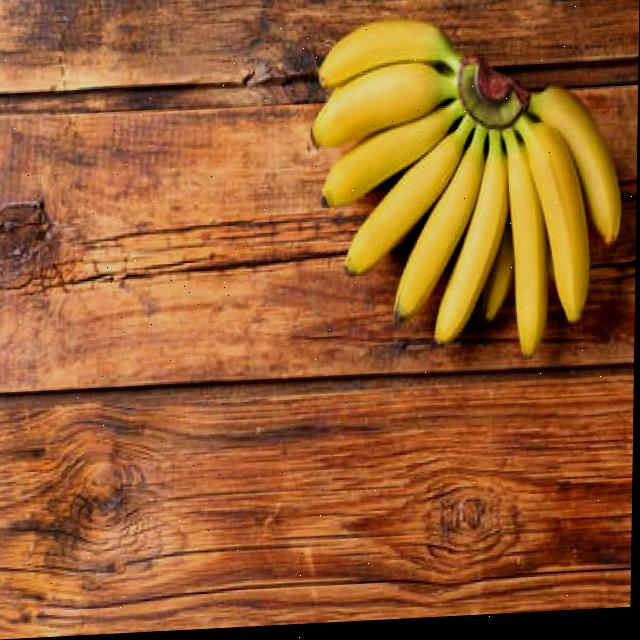banana: (305, 4, 632, 378)
